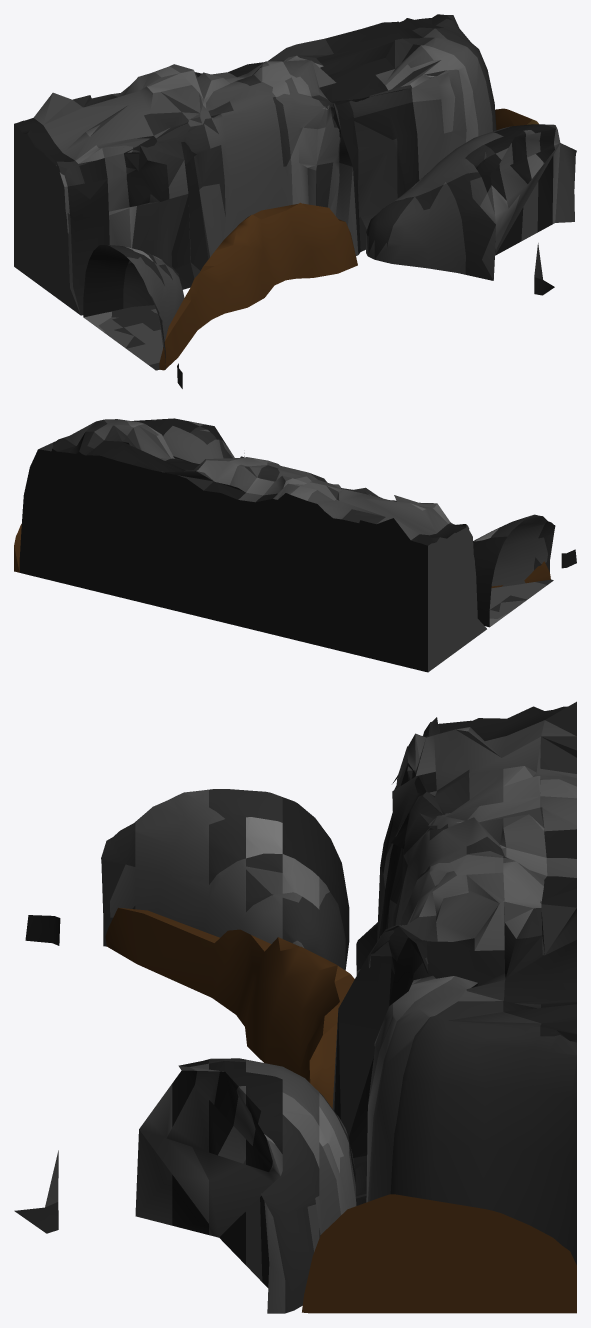
Rendered from rock_machine_bc_damaged.glb.
3 views of the same model, one above another, from view 1: azimuth 30°, elevation 25°; view 2: azimuth 150°, elevation 25°; view 3: azimuth 270°, elevation 25° (orthographic). The views are drawn at different scales.
Parts seen in each view (by area): view 1: body, claws, rock; view 2: body, claws, rock; view 3: body, claws, rock.
Part boxes in pixels (x1,y1,x2,y2): body: (14,14,496,315); claws: (83,124,576,388); rock: (159,108,538,370); body: (19,419,486,672); claws: (132,418,576,627); rock: (14,523,550,588); body: (332,701,576,1264); claws: (14,789,356,1313); rock: (105,907,576,1313).
Size of the model in its own units: 24 by 8.1 by 15.3.
